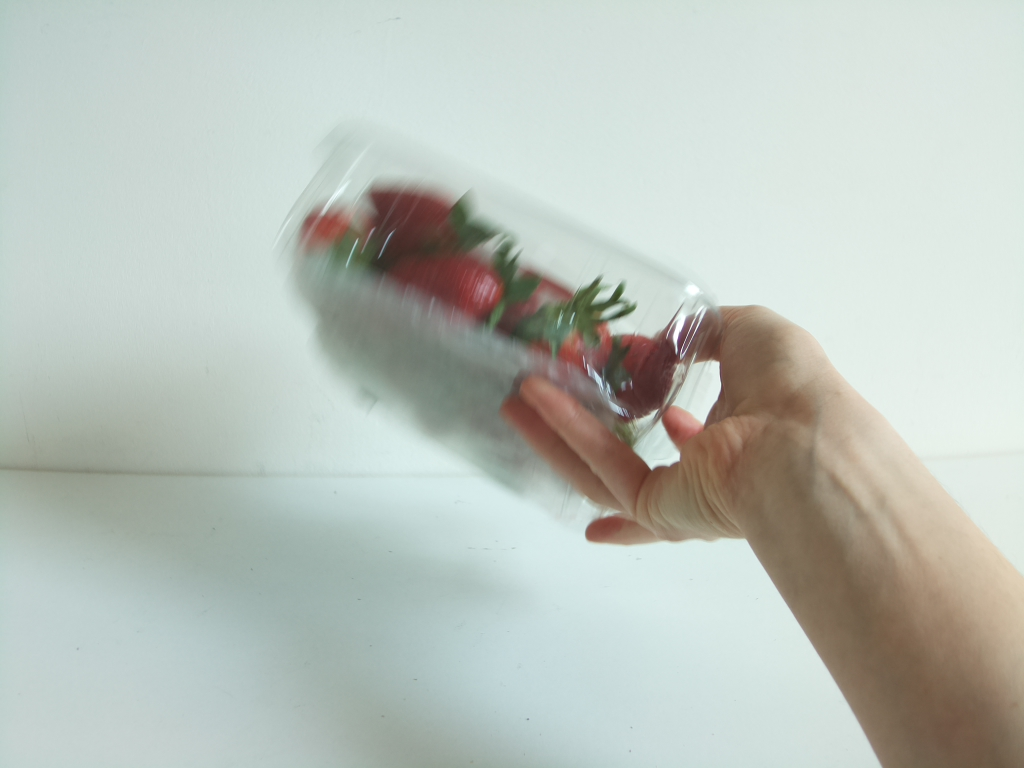soft-fruit: (275, 124, 712, 533)
